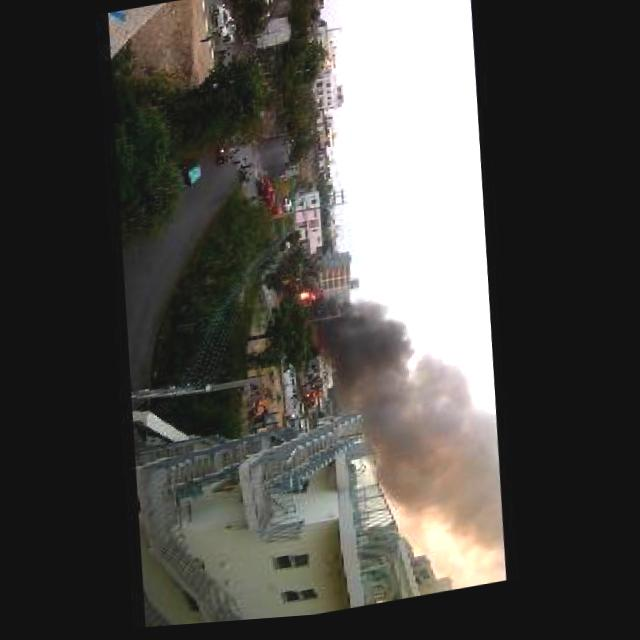no_helmet: (293, 288, 327, 318)
